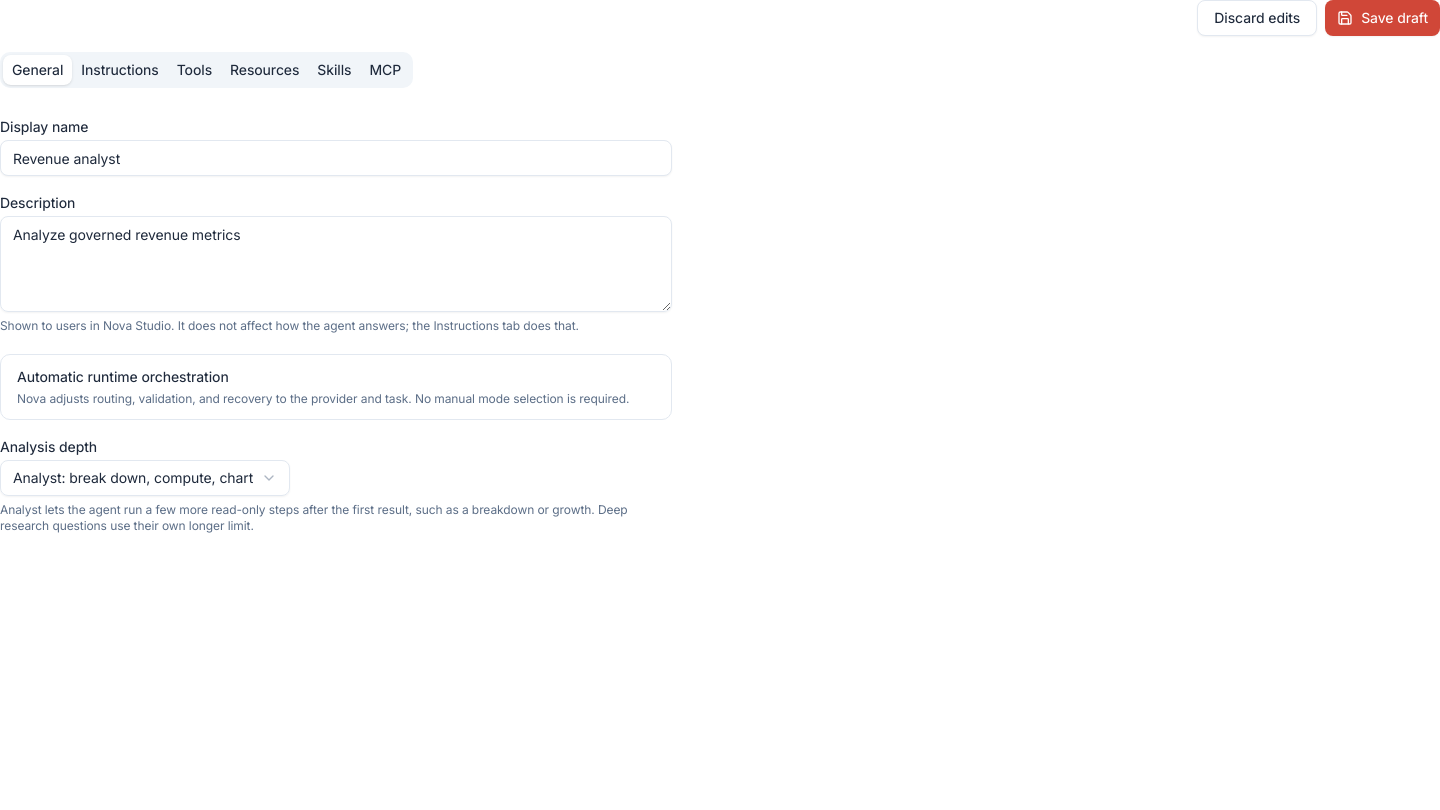
Test: AgentConfigurationTab › resets an unsaved custom tool edit when the dialog is reopened
Step 1. Click the tab "Tools" → (194, 70), box [168,55,221,85]
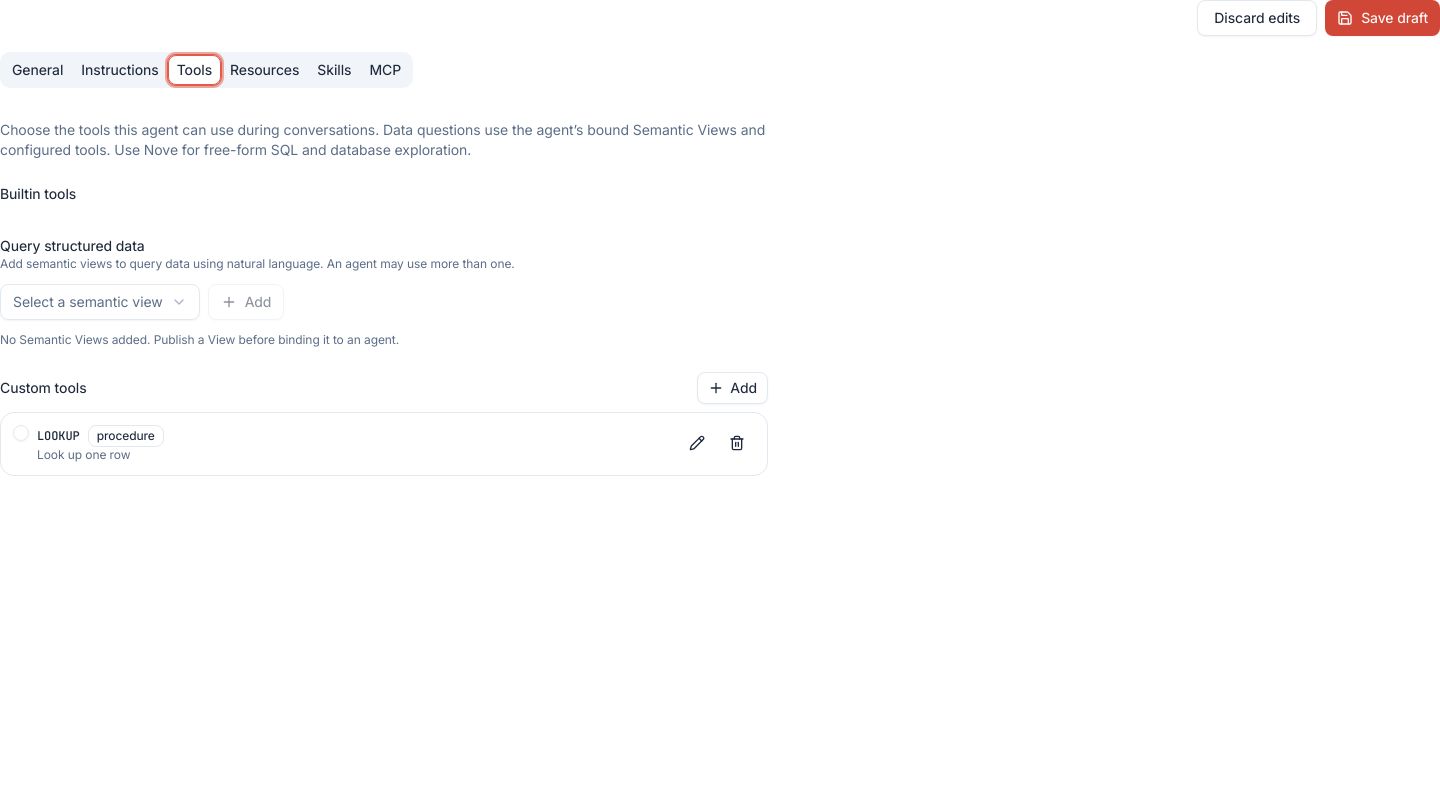
Step 2. Click the button named "Edit LOOKUP" → (697, 443), box [679,425,715,461]
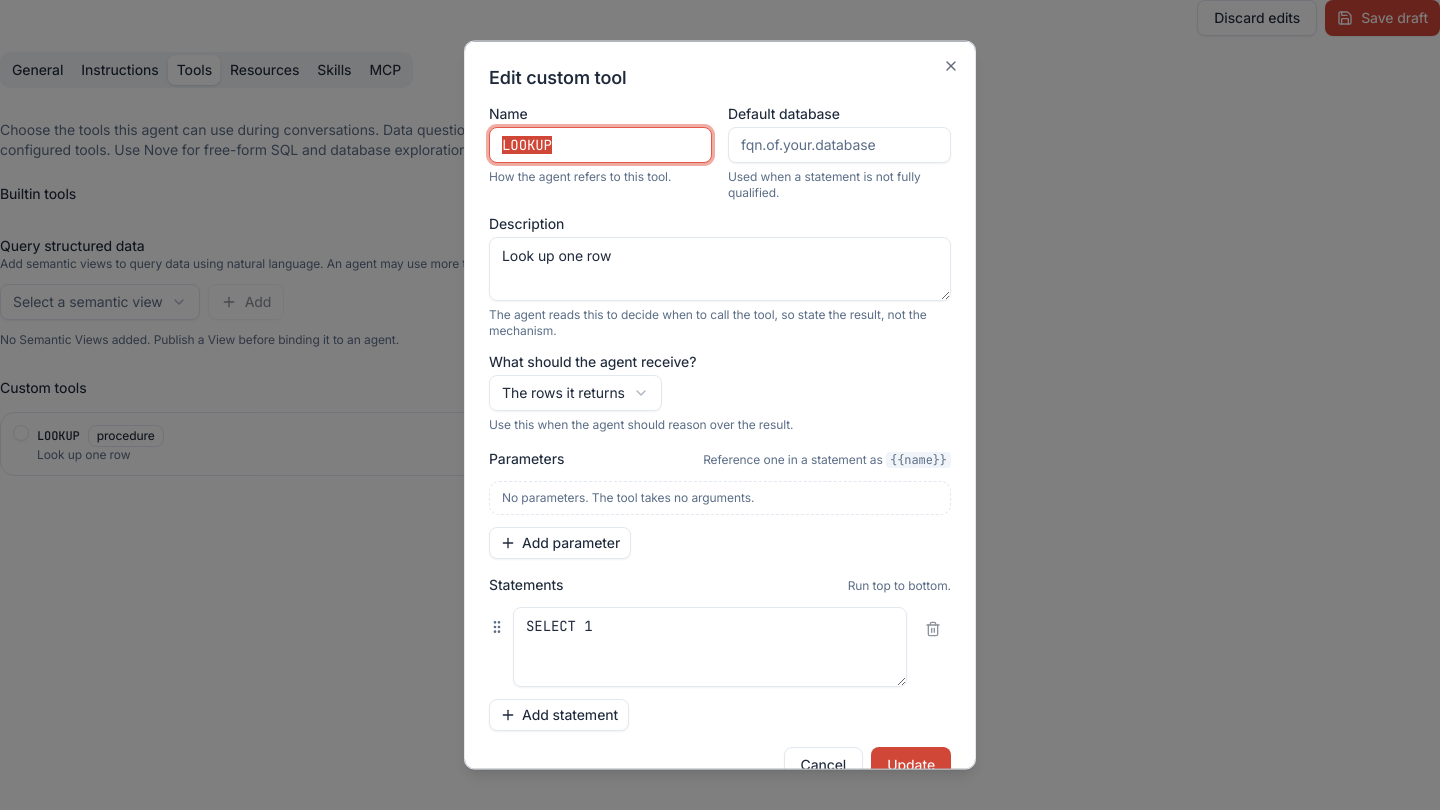
Step 3. Replace the text in the field labelled "Name" with "CHANGED" → (600, 144), box [489,126,712,162]
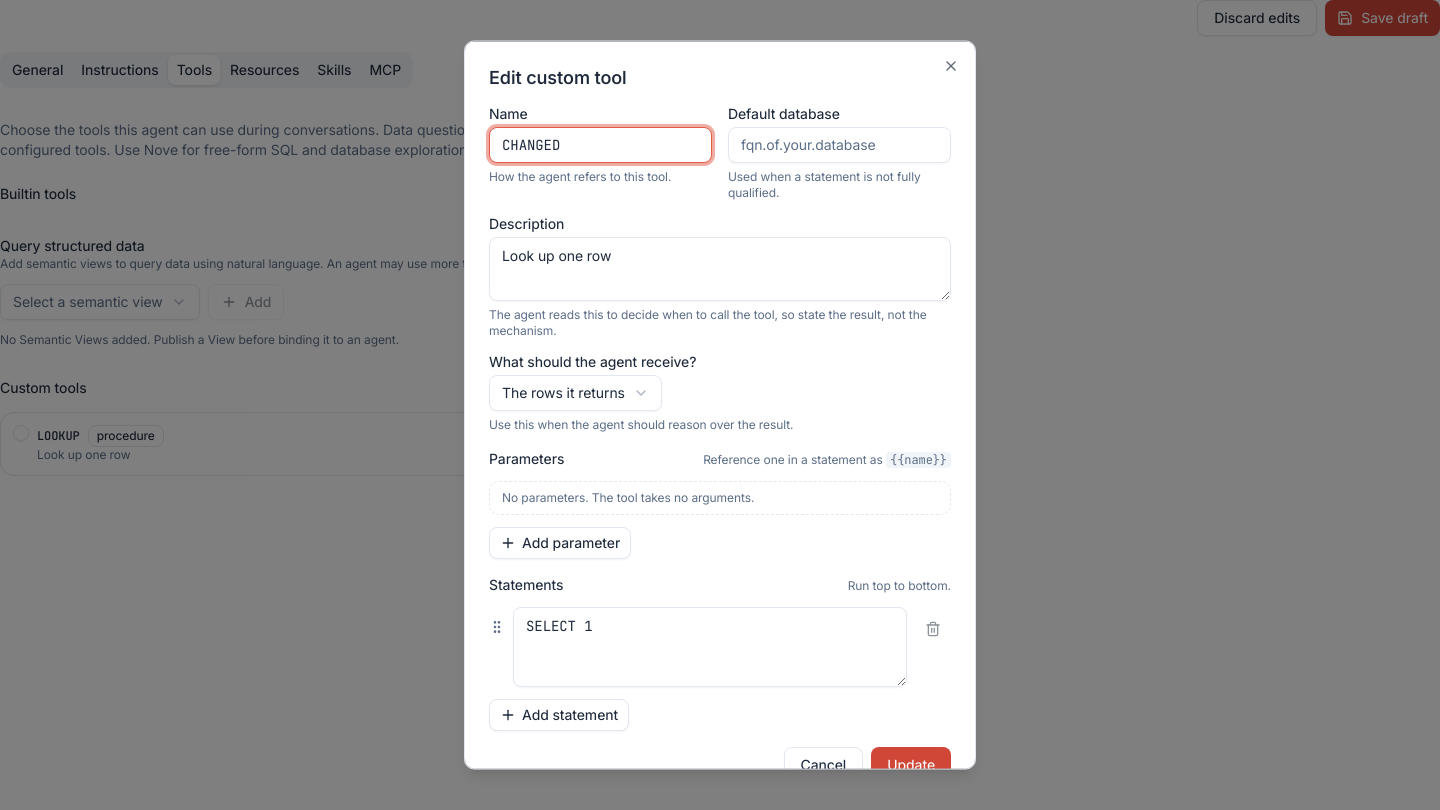
Step 4. Click the button "Cancel" → (823, 764), box [784,746,863,782]
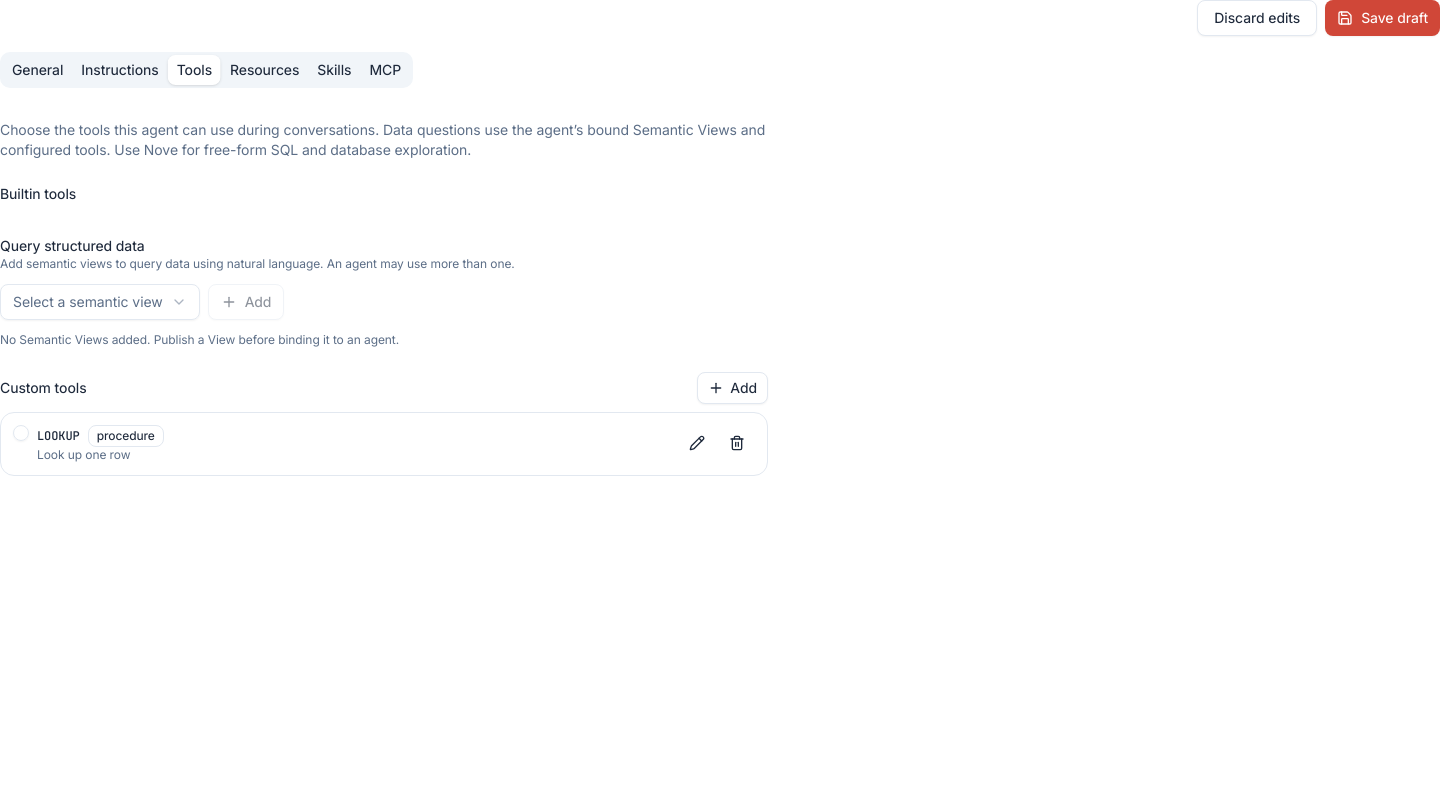
Step 5. Click the button named "Edit LOOKUP" → (697, 443), box [679,425,715,461]
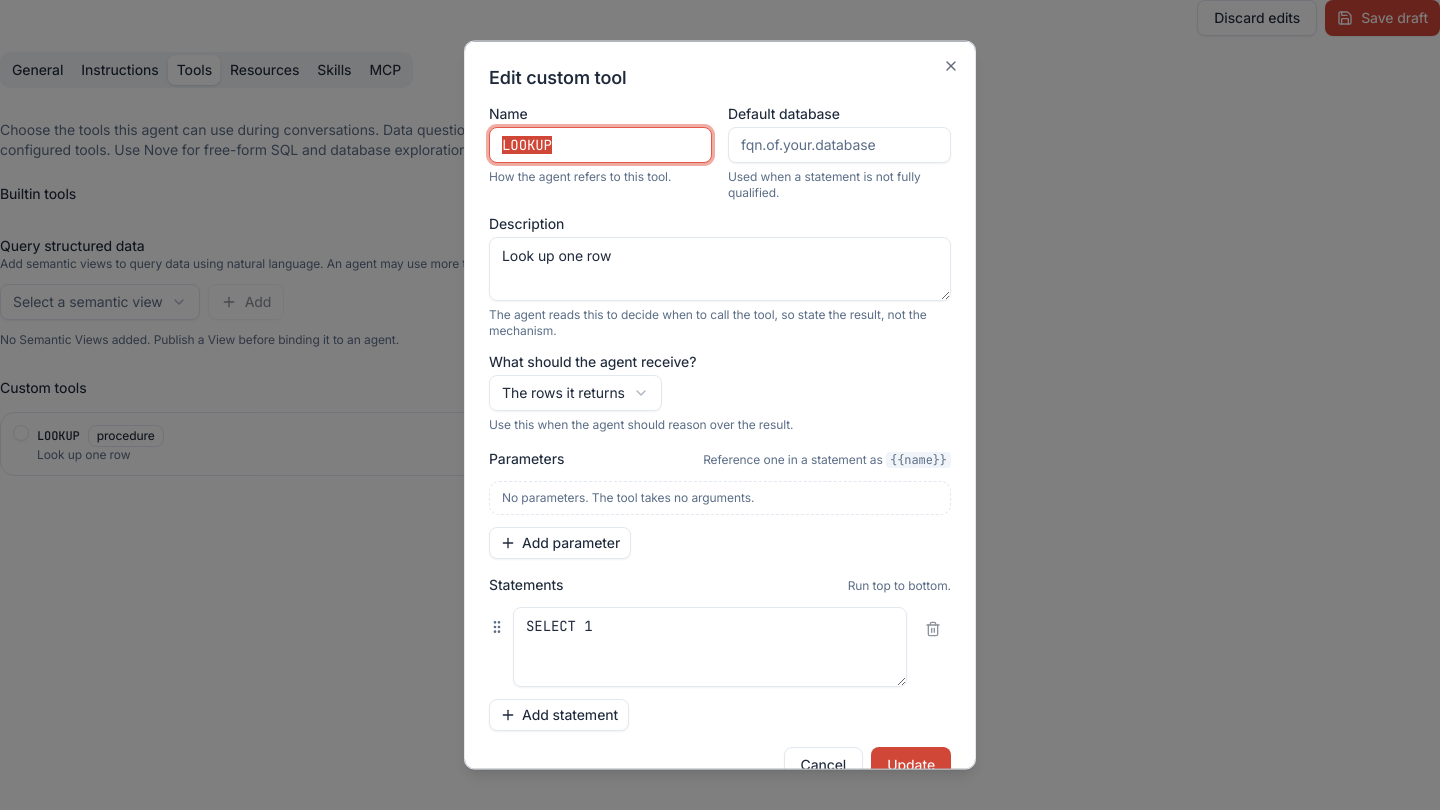
Expected: the field labelled "Name" holds "LOOKUP", [489,126,712,162]
